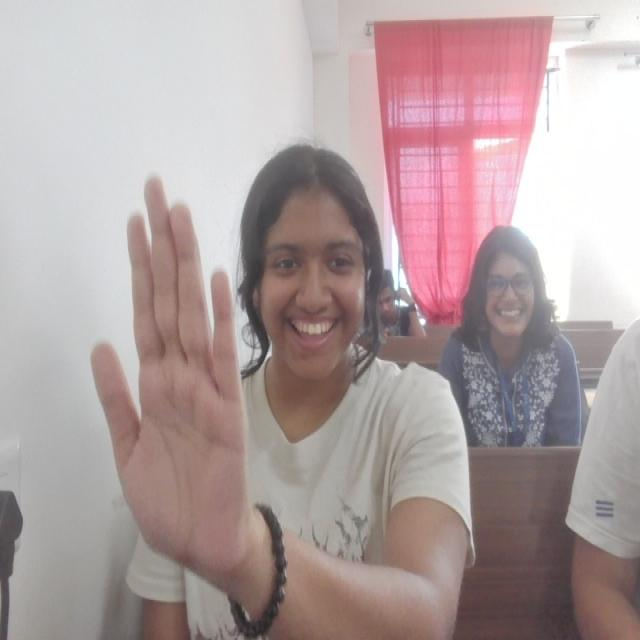hello: (87, 172, 255, 578)
